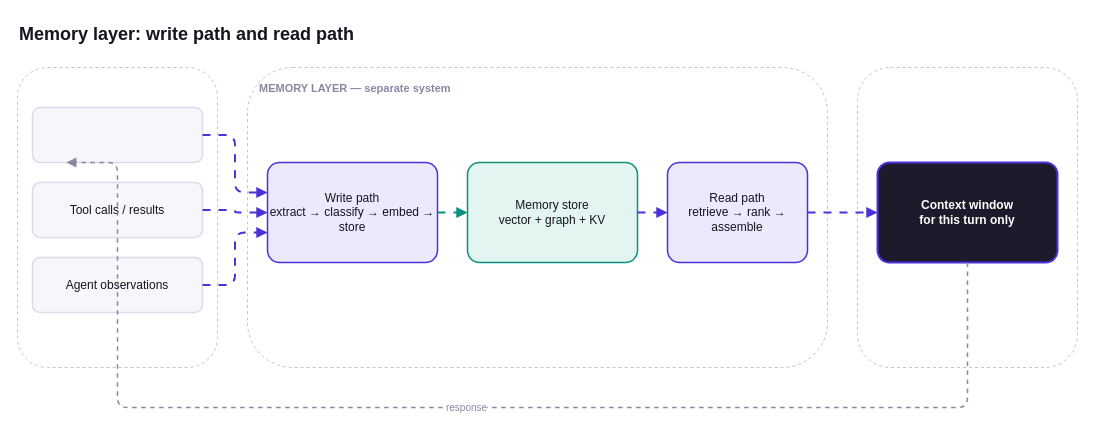
Some shapes in this 1095 by 433 pixel diagram are drawn without their labels. Here are the shapes that lost their labels. From the top down, the box of each, then its label:
(31, 106, 203, 163): User messages
(16, 66, 218, 368): RAW EVENT STREAM
(856, 66, 1078, 368): MODEL CALL
